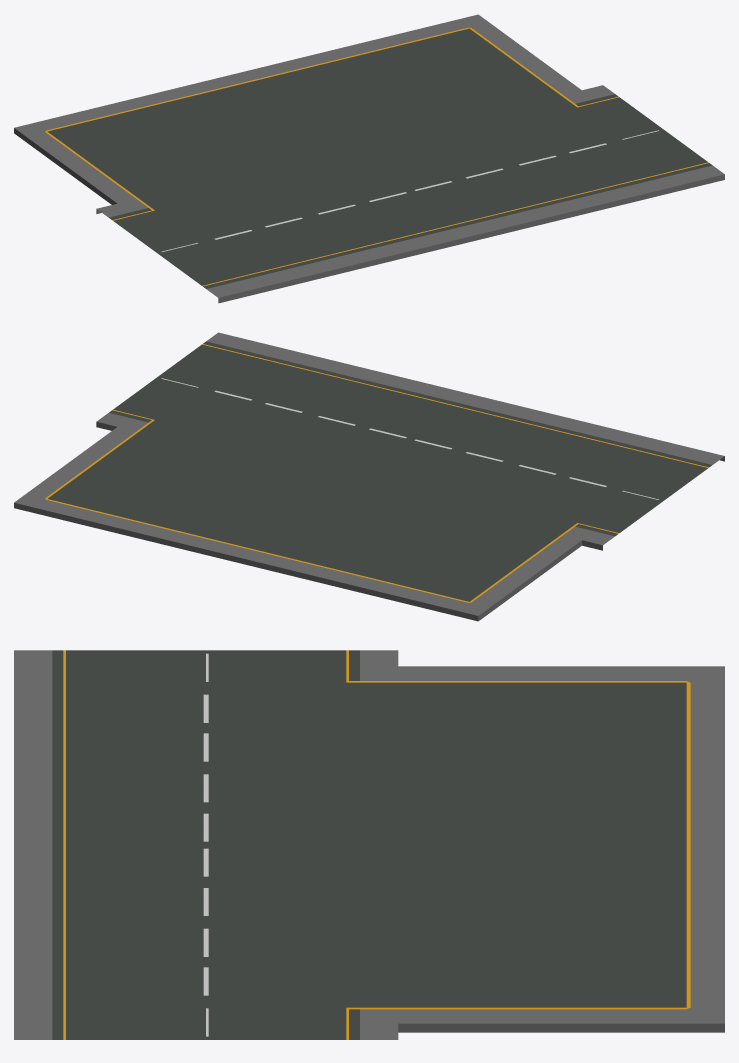
Rendered from SM_Road_Gas_Station.FBX.
3 renders of one model, top to bottom at view 1: azimuth 30°, elevation 25°; view 2: azimuth 150°, elevation 25°; view 3: azimuth 270°, elevation 25°, orthographic. The views are drawn at different scales.
Parts seen in each view (by area): view 1: SM_Road_Gas_Station; view 2: SM_Road_Gas_Station; view 3: SM_Road_Gas_Station.
Part boxes in pixels (x1,y1,x2,y2): SM_Road_Gas_Station: (14,14,724,303); SM_Road_Gas_Station: (14,332,724,621); SM_Road_Gas_Station: (14,650,724,1039).
Size of what is drawn, in the model's own units: 2400 by 1850 by 25.
